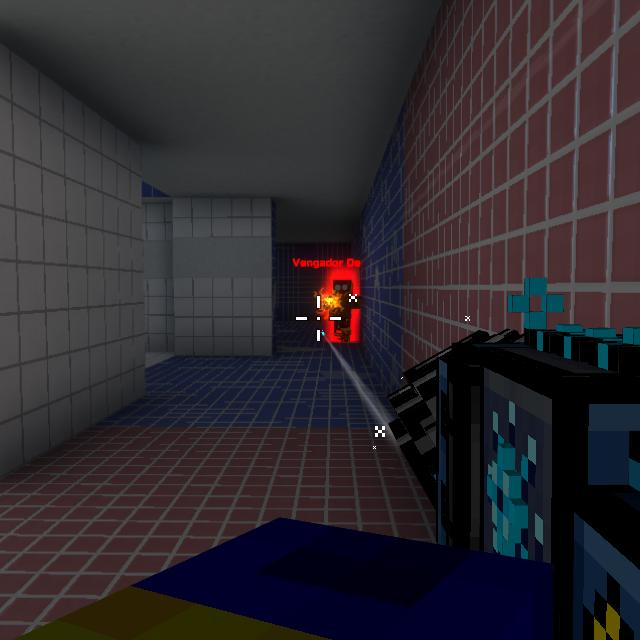Enemy: (322, 279, 360, 343)
